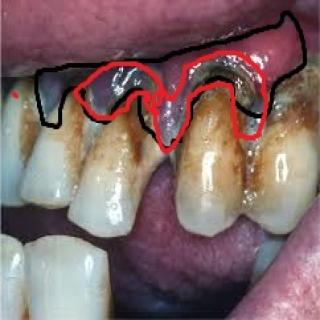Gum Swelling: (36, 15, 304, 147)
calculus: (184, 56, 253, 202), (106, 69, 172, 195), (255, 66, 320, 159), (14, 79, 70, 169), (59, 74, 111, 160)
stains: (185, 90, 249, 226), (262, 85, 320, 192), (2, 101, 50, 176), (110, 111, 146, 209), (62, 100, 86, 190)
